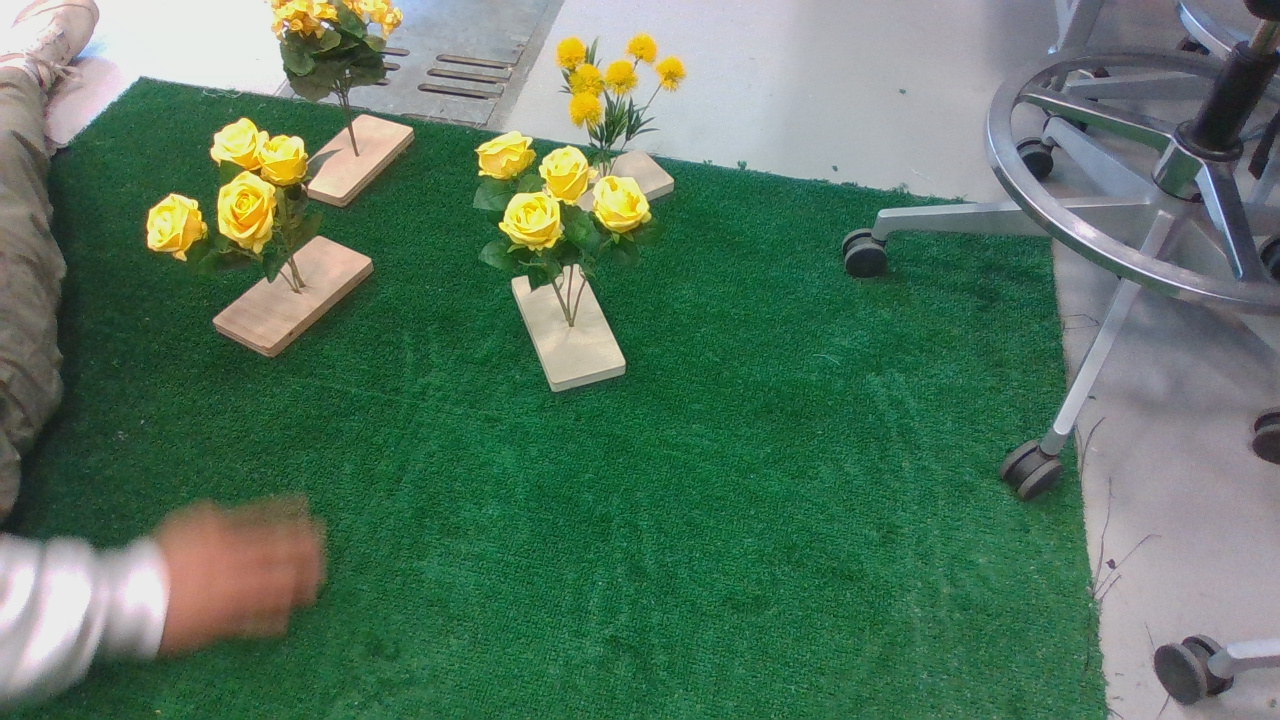dandelion: (552, 27, 701, 142)
geranium: (257, 0, 416, 100)
rose: (146, 119, 348, 301), (456, 135, 659, 297)
